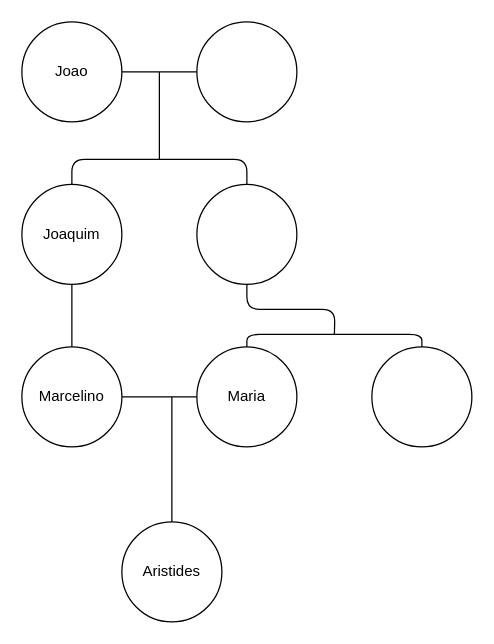
Some shapes in this 494 by 644 pixel diagram are drawn without their labels. The centre of each missing label's shape, as x and y in pixels:
"Ana" goes at point (421, 396).
"Joana" goes at point (246, 71).
"Serafina" goes at point (246, 233).
